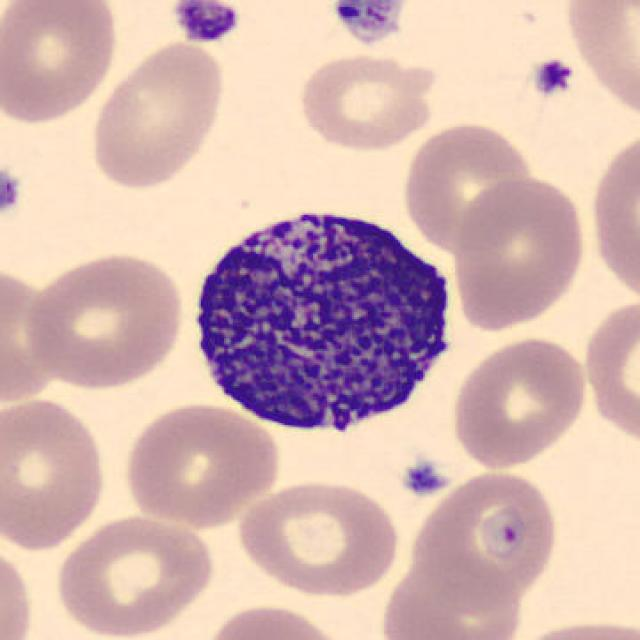Basophil: (180, 192, 466, 446)
Platelets: (326, 0, 412, 46), (167, 0, 245, 46), (528, 54, 578, 100), (398, 458, 450, 499), (0, 164, 27, 220)
RBC: (22, 247, 188, 391), (448, 171, 590, 333), (87, 37, 229, 192), (119, 398, 285, 530), (51, 509, 218, 640), (411, 466, 565, 608), (233, 474, 402, 600), (448, 331, 592, 471), (400, 118, 539, 256), (0, 393, 110, 554), (0, 0, 121, 127), (293, 50, 439, 154), (377, 557, 530, 640), (560, 0, 640, 125), (587, 122, 638, 310), (0, 261, 64, 409), (580, 295, 638, 453), (199, 599, 350, 640), (0, 534, 37, 640), (505, 617, 636, 640)
